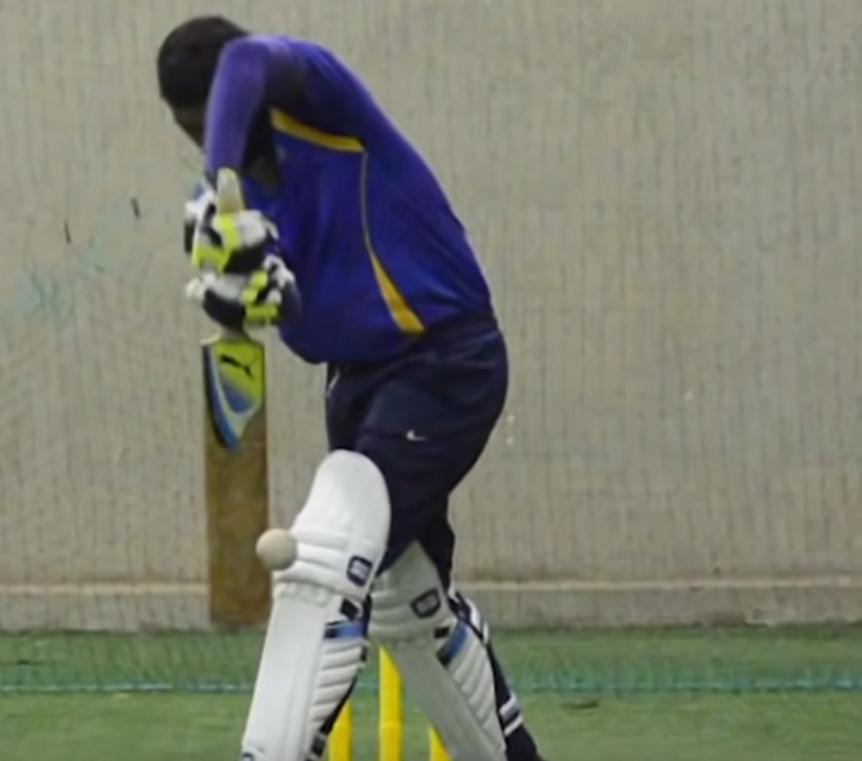Cricket-Ball: (249, 523, 302, 574)
